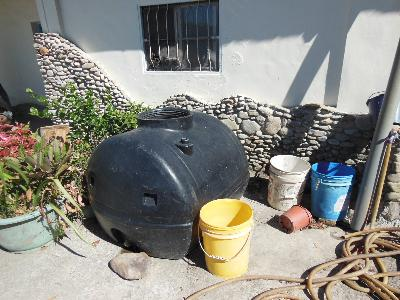bowl: (278, 203, 312, 234)
bucket: (84, 106, 251, 262), (199, 197, 256, 279), (310, 159, 357, 221), (268, 153, 311, 213)
